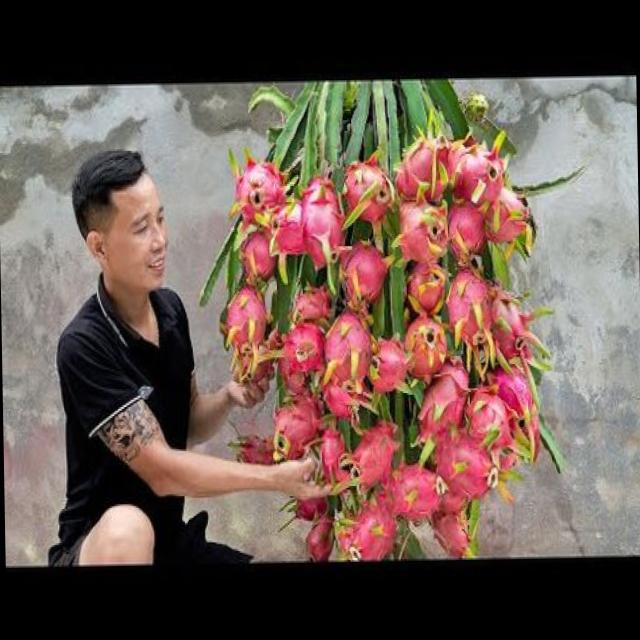Thanh Long: (426, 428, 532, 504), (410, 352, 466, 461), (478, 372, 550, 451), (389, 120, 450, 208), (449, 267, 498, 368), (268, 388, 327, 463), (367, 466, 458, 514), (300, 165, 344, 264), (346, 412, 400, 488), (322, 316, 375, 390), (490, 298, 546, 367), (228, 146, 288, 208), (218, 284, 266, 354), (476, 183, 527, 248), (342, 504, 396, 564), (456, 132, 500, 205), (338, 162, 394, 218), (222, 334, 281, 387), (416, 506, 478, 556), (268, 188, 304, 271), (388, 209, 441, 265), (405, 314, 442, 389), (340, 251, 387, 308), (462, 392, 514, 442), (364, 328, 404, 391), (282, 324, 328, 378), (402, 267, 447, 320), (444, 197, 479, 265), (318, 386, 376, 424), (316, 425, 350, 482), (301, 515, 344, 560), (293, 278, 324, 326), (241, 228, 272, 275), (236, 427, 274, 464), (286, 496, 324, 524)
